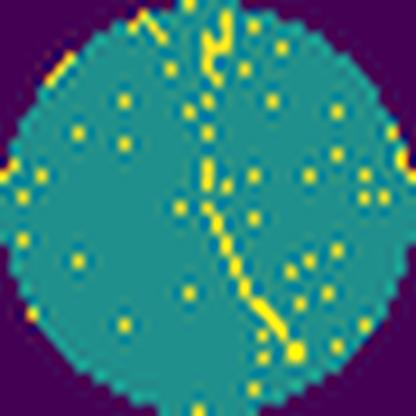Scratch: (196, 200, 309, 372)
